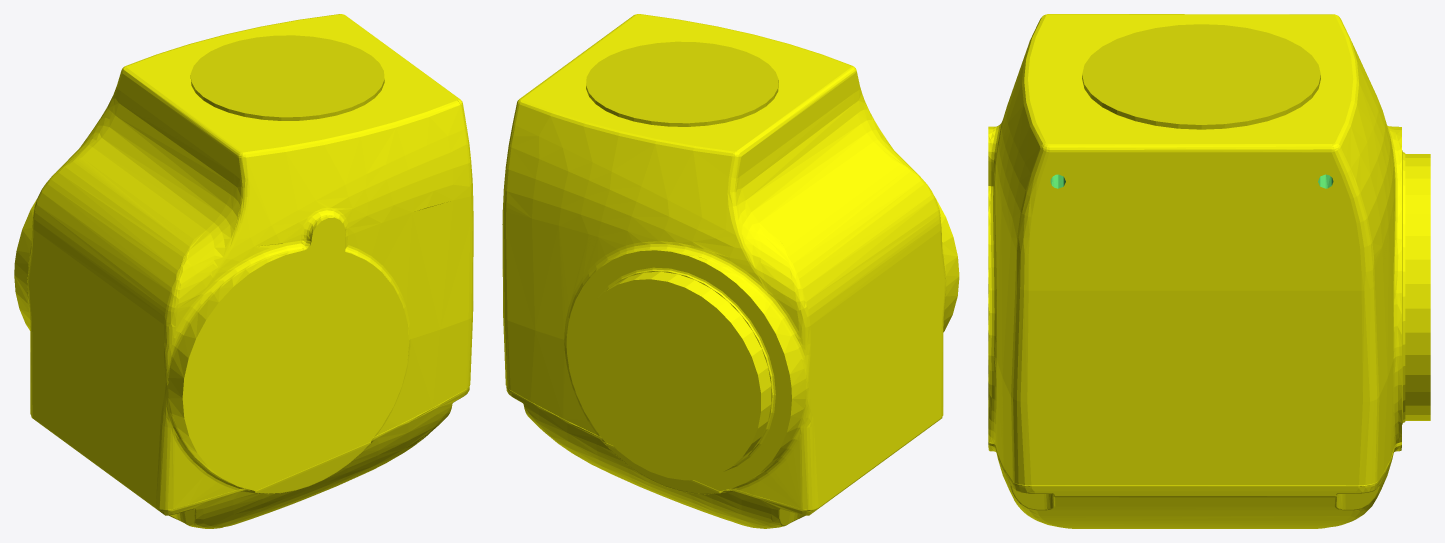
The picture shows the model from 3 angles, left to right: view 1: azimuth 30°, elevation 25°; view 2: azimuth 150°, elevation 25°; view 3: azimuth 270°, elevation 25°; orthographic projection. The views are drawn at different scales.
Parts seen in each view (by area): view 1: node; view 2: node; view 3: node.
Boxes of the visible parts, box(x1,y1,x2,y2) form: node: box(14, 14, 473, 528); node: box(502, 14, 959, 528); node: box(988, 14, 1430, 528).
Size of the model in its own units: 138 by 165 by 139.
